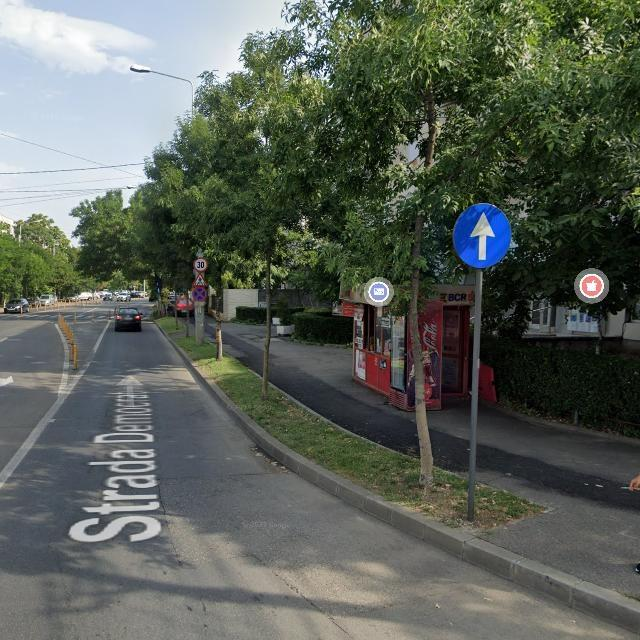forb_speed_over_30: (194, 257, 208, 272)
forb_waiting: (192, 287, 207, 302)
warn_crosswalk: (194, 273, 209, 289)
